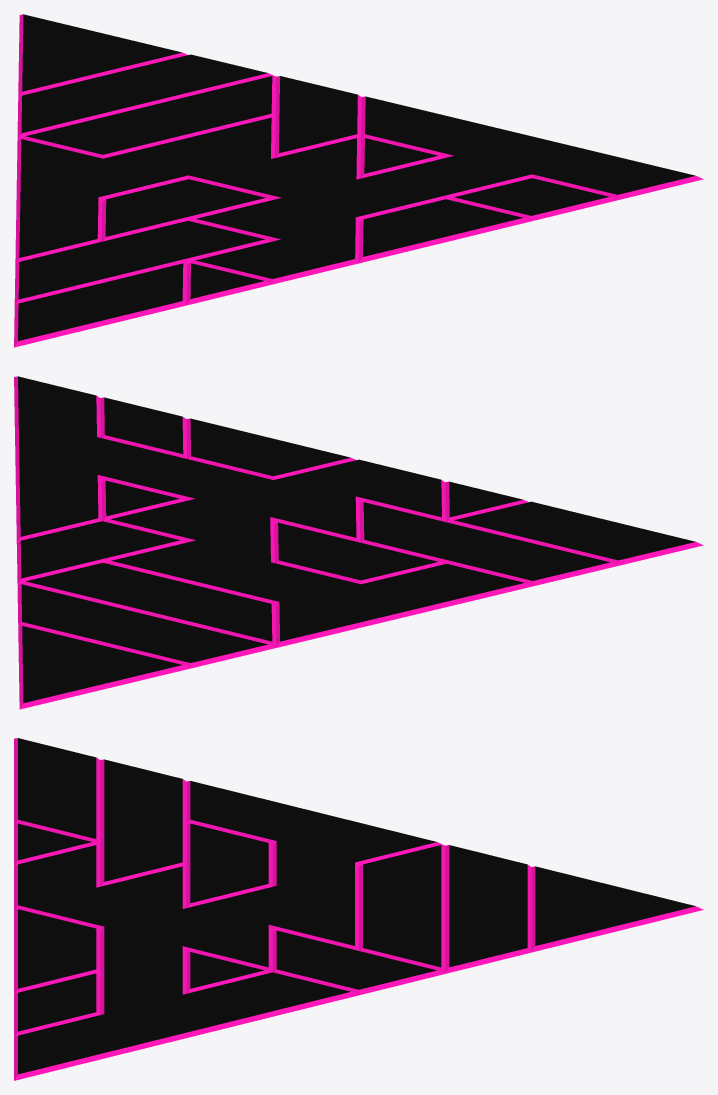
Rendered from Cyberpunk Triangle Tile.010.glb.
3 views of the same model, one above another, from view 1: azimuth 30°, elevation 25°; view 2: azimuth 150°, elevation 25°; view 3: azimuth 270°, elevation 25° (orthographic).
Parts seen in each view (by area): view 1: Cyberpunk Triangle Tile.010; view 2: Cyberpunk Triangle Tile.010; view 3: Cyberpunk Triangle Tile.010.
Boxes of the visible parts, bbox=[...] form: Cyberpunk Triangle Tile.010: bbox=[14, 14, 703, 347]; Cyberpunk Triangle Tile.010: bbox=[14, 376, 703, 709]; Cyberpunk Triangle Tile.010: bbox=[14, 738, 703, 1080].
Bounding box in the file's own units: 1.02 × 0.005 × 0.8664.
1 material, 1 textured.
